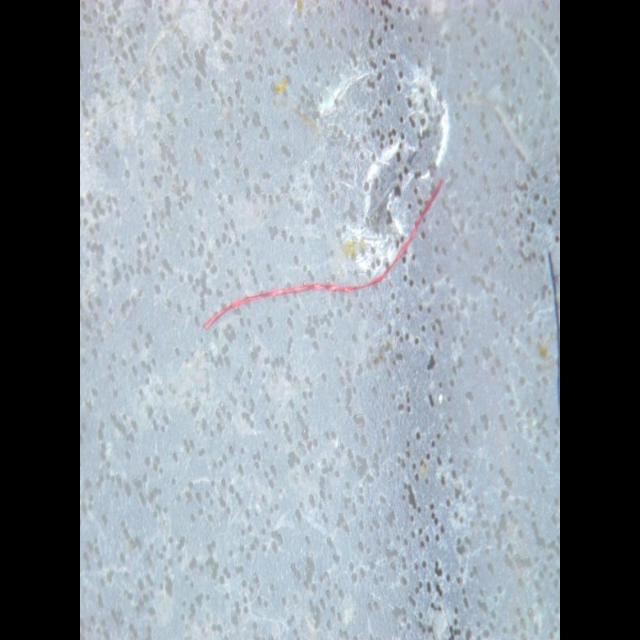Fibre: (202, 173, 446, 344)
